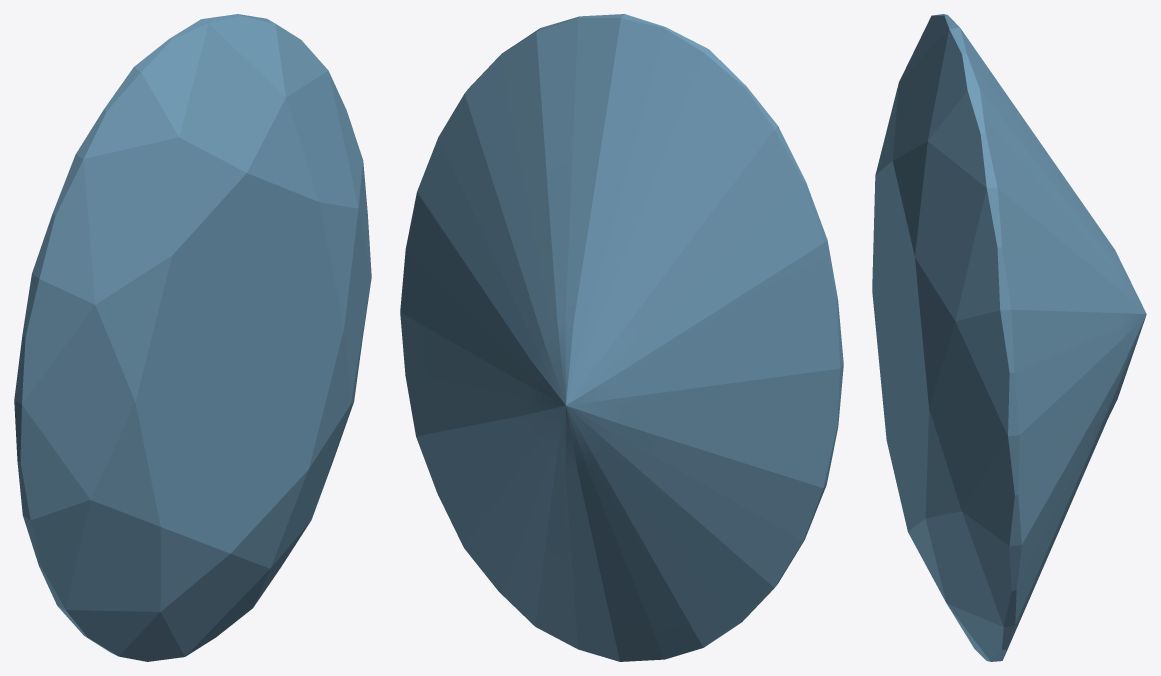
The model's file is TR1_8shapes_Oval_Classic_Stone.001 3.glb.
3 renders of one model, left to right at view 1: azimuth 30°, elevation 25°; view 2: azimuth 150°, elevation 25°; view 3: azimuth 270°, elevation 25°, orthographic. The views are drawn at different scales.
Visible parts, largest first — view 1: TR1_8shapes_Oval_Classic_Stone.001; view 2: TR1_8shapes_Oval_Classic_Stone.001; view 3: TR1_8shapes_Oval_Classic_Stone.001.
Part boxes in pixels (bbox=[...]): TR1_8shapes_Oval_Classic_Stone.001: bbox=[14, 14, 371, 661]; TR1_8shapes_Oval_Classic_Stone.001: bbox=[400, 14, 843, 661]; TR1_8shapes_Oval_Classic_Stone.001: bbox=[872, 14, 1146, 661].
Size of the model in its own units: 0.481 by 0.7372 by 0.2933.
